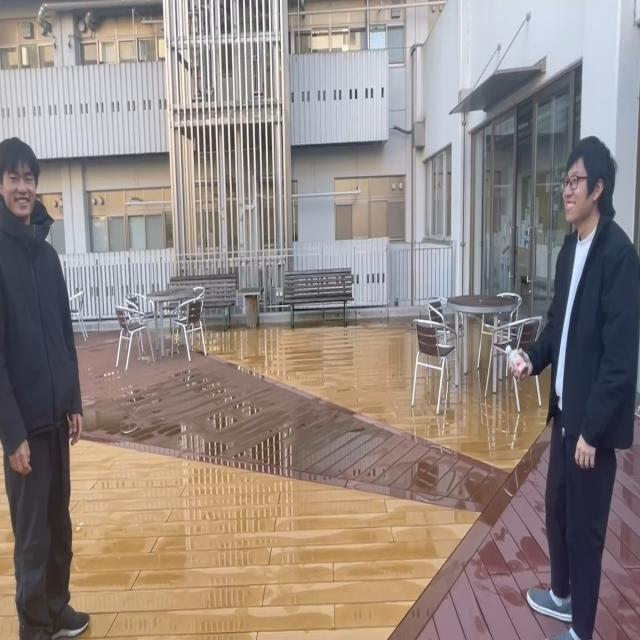bottle: (506, 344, 528, 382)
